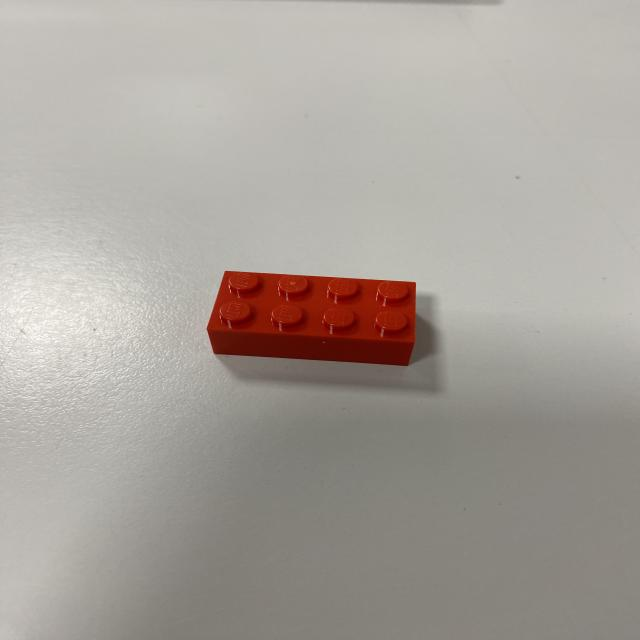C4x2x1: (204, 272, 417, 343), (207, 329, 415, 367)
